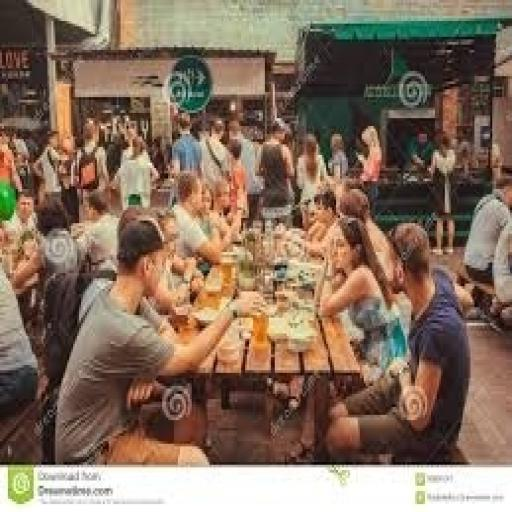eating: (51, 212, 259, 464), (320, 218, 472, 465), (316, 212, 411, 388), (166, 168, 227, 268), (111, 128, 160, 212)
